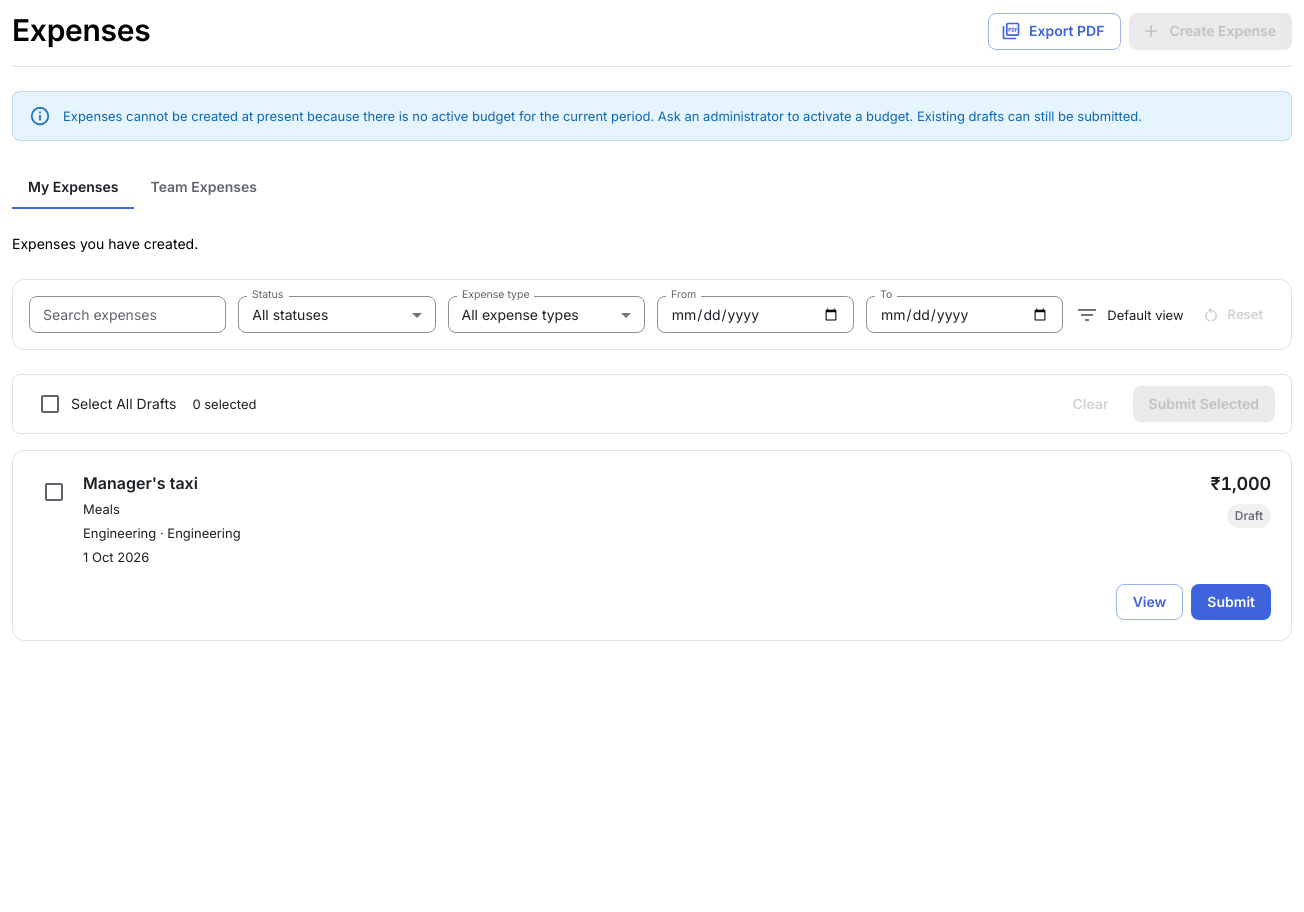
Test case: ExpensesPage submitting several drafts › offers no selection in the team view
Check: the checkbox named "Select Manager's taxi" is shown, box [42, 480, 66, 504]
Click the tab "Team Expenses" at point(204, 187), box [134, 165, 273, 209]
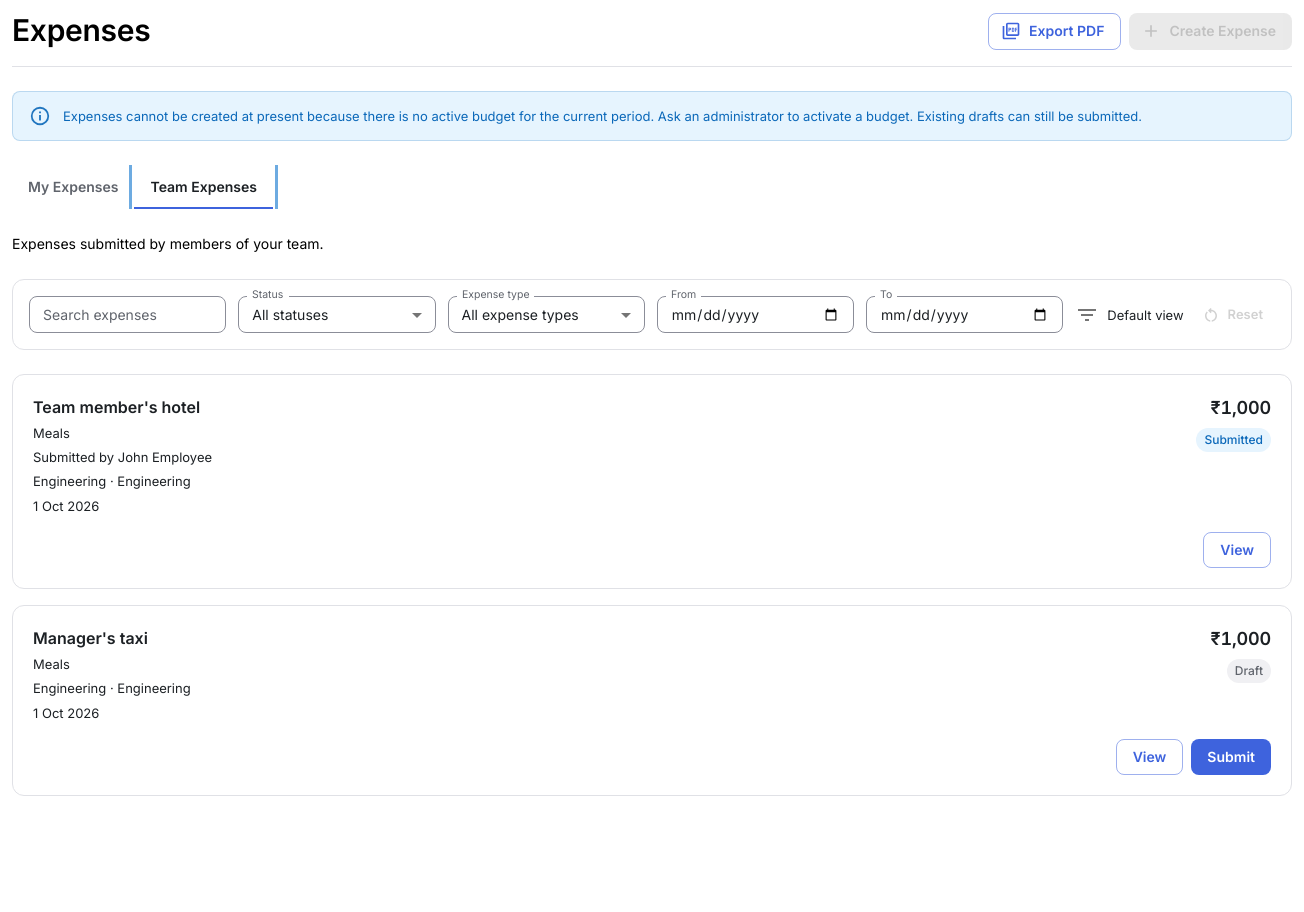
Check: the heading "Team member's hotel" is shown, box [33, 395, 212, 419]
Check: the checkbox is gone
Check: the button "Submit Selected" is gone
